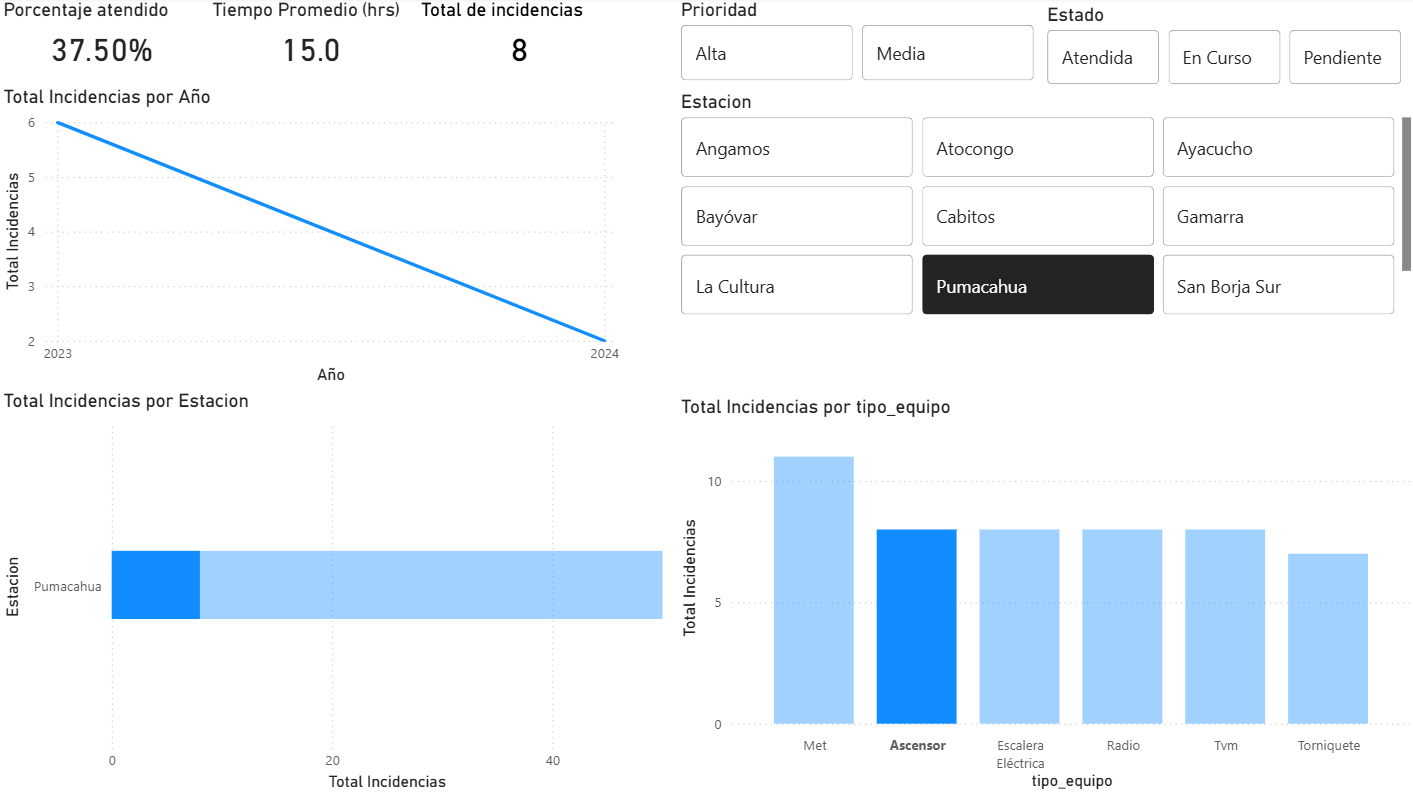

Layout of this report page (visuals, bound fields, positions):
{"tool":"powerbi","page":{"name":"Página 1","canvas":[1280,720],"ordinal":0},"visuals":[{"type":"card","title":"Total de incidencias","fields":{"Values":["Incidencias.Total Incidencias"]},"box":[376.6,1.2,188.3,70.9],"z":0},{"type":"card","title":"Tiempo Promedio (hrs)","fields":{"Values":["Incidencias.Tiempo Promedio Atención"]},"box":[188.3,1.2,188.3,70.9],"z":1000},{"type":"barChart","fields":{"Category":["Incidencias.estacion"],"Y":["Incidencias.Total Incidencias"]},"box":[0,353.4,611.4,366.8],"z":2000},{"type":"columnChart","fields":{"Category":["Incidencias.tipo_equipo"],"Y":["Incidencias.Total Incidencias"]},"box":[611.4,359.5,668.9,360.7],"z":3000},{"type":"lineChart","fields":{"Category":["Incidencias.mes_reporte.Variación.Jerarquía de fechas.Año","Incidencias.mes_reporte.Variación.Jerarquía de fechas.Trimestre","Incidencias.mes_reporte.Variación.Jerarquía de fechas.Mes","Incidencias.mes_reporte.Variación.Jerarquía de fechas.Día"],"Y":["Incidencias.Total Incidencias"]},"box":[0,79.5,564.9,273.9],"z":4000},{"type":"advancedSlicerVisual","title":"Prioridad","fields":{"Values":["Incidencias.prioridad"]},"box":[611.4,1.2,328.9,79.5],"z":5000},{"type":"advancedSlicerVisual","title":"Estacion","fields":{"Values":["Incidencias.estacion"]},"box":[611.1,84.4,668.9,209.1],"z":6000},{"type":"card","title":"Porcentaje atendido","fields":{"Values":["Incidencias.% Atendidas"]},"box":[0,1.2,188.3,70.9],"z":7000},{"type":"advancedSlicerVisual","title":"Estado","fields":{"Values":["Incidencias.estado"]},"box":[940.8,5.7,329.3,78.4],"z":8000}]}

Visuals, with their boxes in screenshot pixels (x1, y1, x2, y2), scaled from the page's 1280x720 canvas onto the 1413x792 screenshot:
"Total de incidencias" card: bbox=[416, 1, 624, 79]
"Tiempo Promedio (hrs)" card: bbox=[208, 1, 416, 79]
barChart - Incidencias.estacion x Incidencias.Total Incidencias: bbox=[0, 389, 675, 791]
columnChart - Incidencias.tipo_equipo x Incidencias.Total Incidencias: bbox=[675, 395, 1412, 791]
lineChart - Incidencias.mes_reporte.Variación.Jerarquía de fechas.Año x Incidencias.mes_reporte.Variación.Jerarquía de fechas.Trimestre: bbox=[0, 87, 624, 389]
"Prioridad" advancedSlicerVisual: bbox=[675, 1, 1038, 89]
"Estacion" advancedSlicerVisual: bbox=[675, 93, 1412, 323]
"Porcentaje atendido" card: bbox=[0, 1, 208, 79]
"Estado" advancedSlicerVisual: bbox=[1039, 6, 1402, 93]
